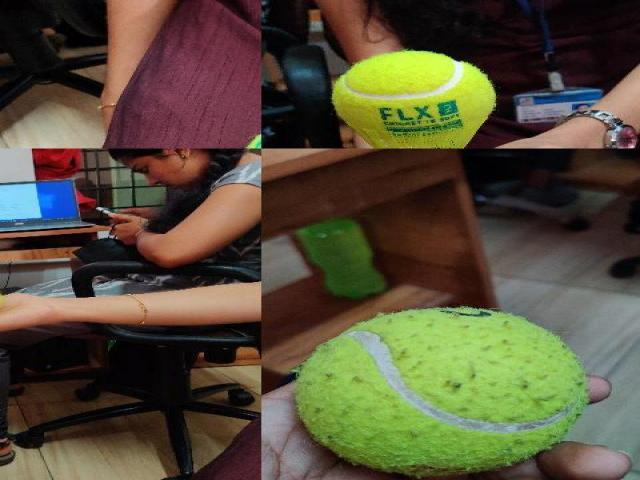tennis-ball: (296, 306, 588, 474), (333, 51, 494, 117)
